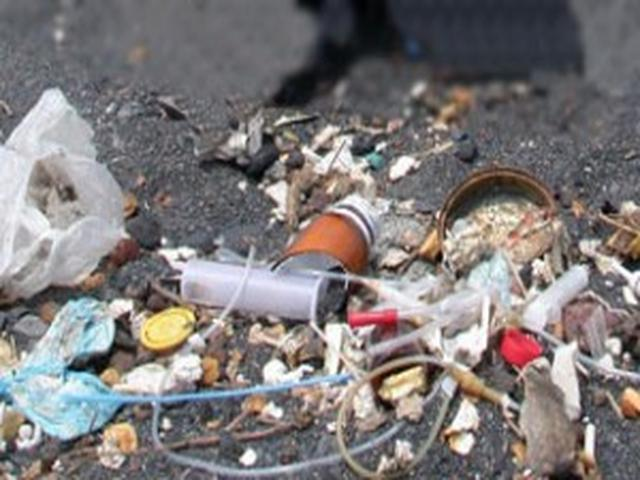garbage: (119, 226, 631, 419)
